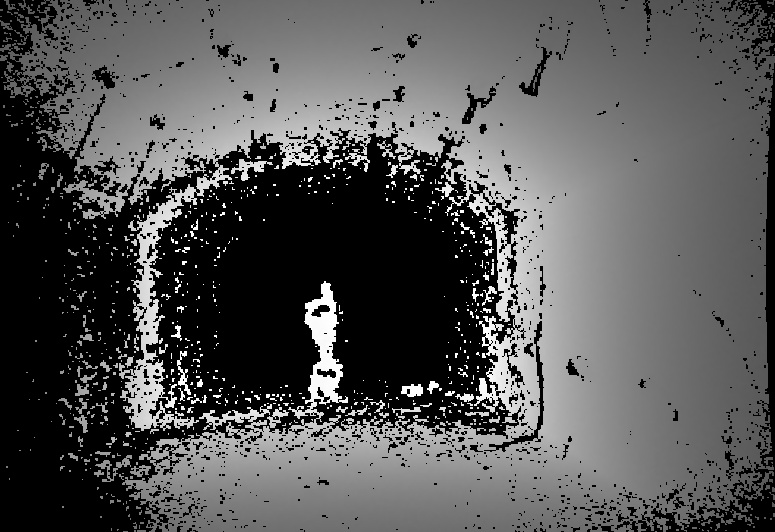person: (304, 280, 343, 402)
